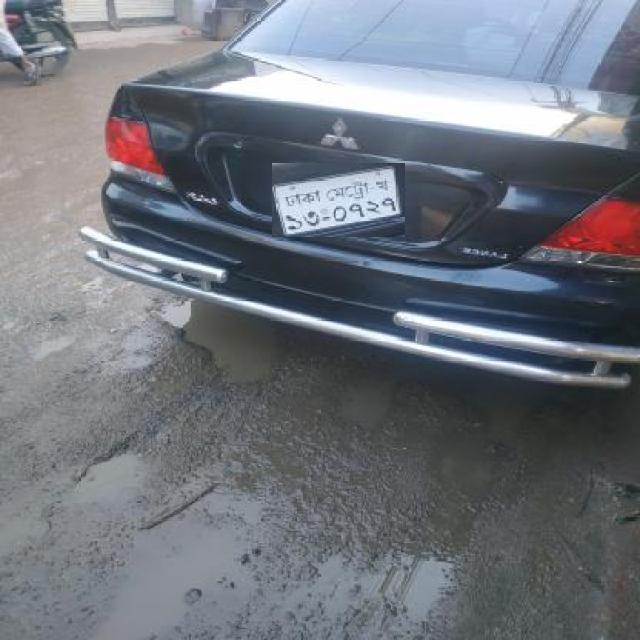numberplate: (272, 163, 405, 237)
